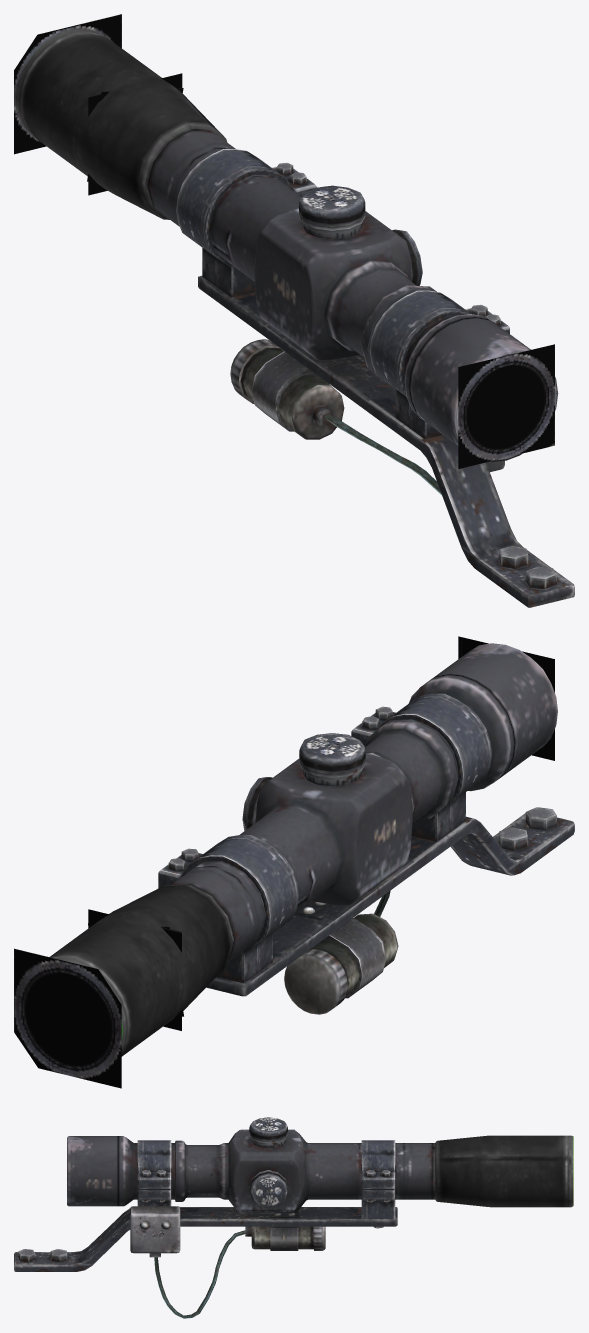
File: optica.obj
The picture shows the model from 3 angles, top to bottom: view 1: azimuth 30°, elevation 25°; view 2: azimuth 150°, elevation 25°; view 3: azimuth 270°, elevation 25°; orthographic projection. The views are drawn at different scales.
Visible parts, largest first — view 1: wpn34_gun_pricel, wpn_obves; view 2: wpn34_gun_pricel, wpn_obves; view 3: wpn34_gun_pricel.
Part boxes in pixels (box(x1,y1,x2,y2)): wpn34_gun_pricel: box(15, 29, 574, 607); wpn_obves: box(14, 14, 554, 468); wpn34_gun_pricel: box(49, 643, 574, 1056); wpn_obves: box(14, 636, 554, 1088); wpn34_gun_pricel: box(14, 1117, 573, 1318).
Bounding box in the file's own units: 0.0552 × 0.1228 × 0.3548.
2 materials, 2 textured.
